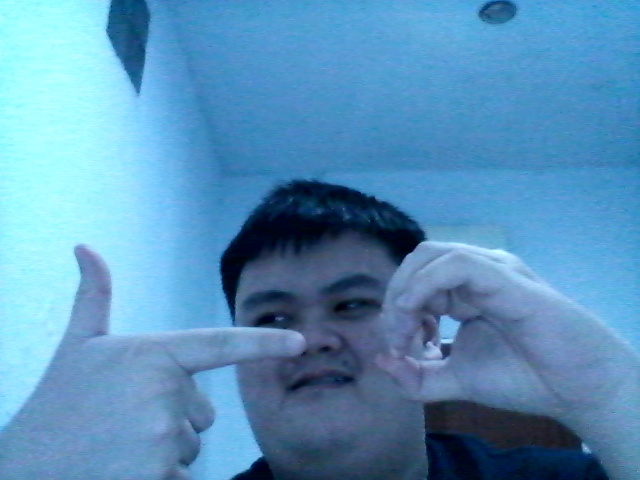LiveLong: (5, 244, 622, 467)
